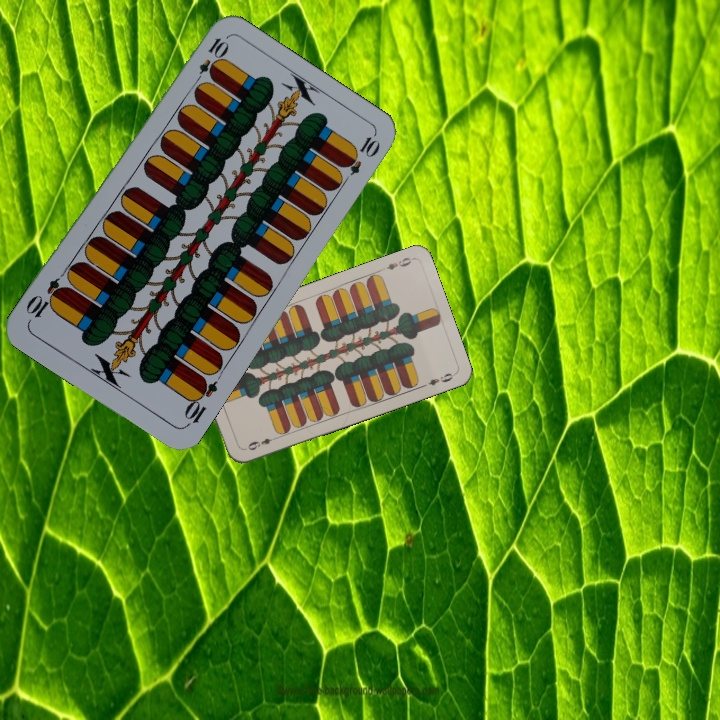E10: (179, 373, 220, 430), (190, 33, 230, 89)
E9: (376, 253, 414, 274), (244, 433, 280, 453)
